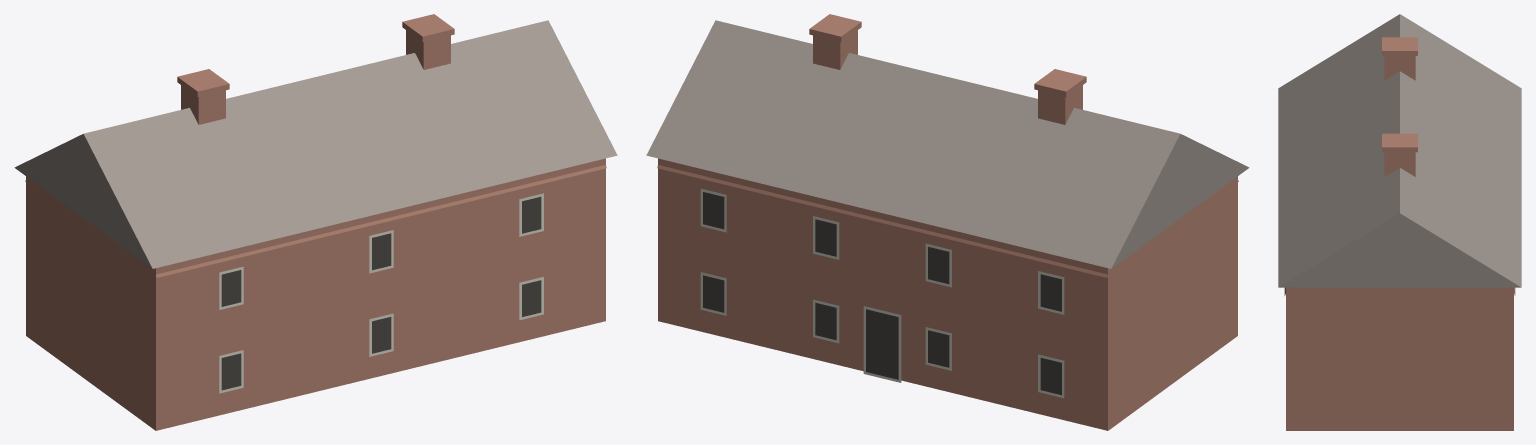
Rendered from fort_dearborn_commandants_quarters__brick_1816.glb.
3 views of the same model, side by side, from view 1: azimuth 30°, elevation 25°; view 2: azimuth 150°, elevation 25°; view 3: azimuth 270°, elevation 25° (orthographic). The views are drawn at different scales.
Parts seen in each view (by area): view 1: fort_dearborn_commandants_quarters__brick_1816; view 2: fort_dearborn_commandants_quarters__brick_1816; view 3: fort_dearborn_commandants_quarters__brick_1816.
Boxes of the visible parts, <box> form: fort_dearborn_commandants_quarters__brick_1816: <box>14,14,617,430</box>; fort_dearborn_commandants_quarters__brick_1816: <box>646,14,1249,430</box>; fort_dearborn_commandants_quarters__brick_1816: <box>1278,14,1521,430</box>.
Size of the model in its own units: 15.74 by 8.98 by 8.12.
